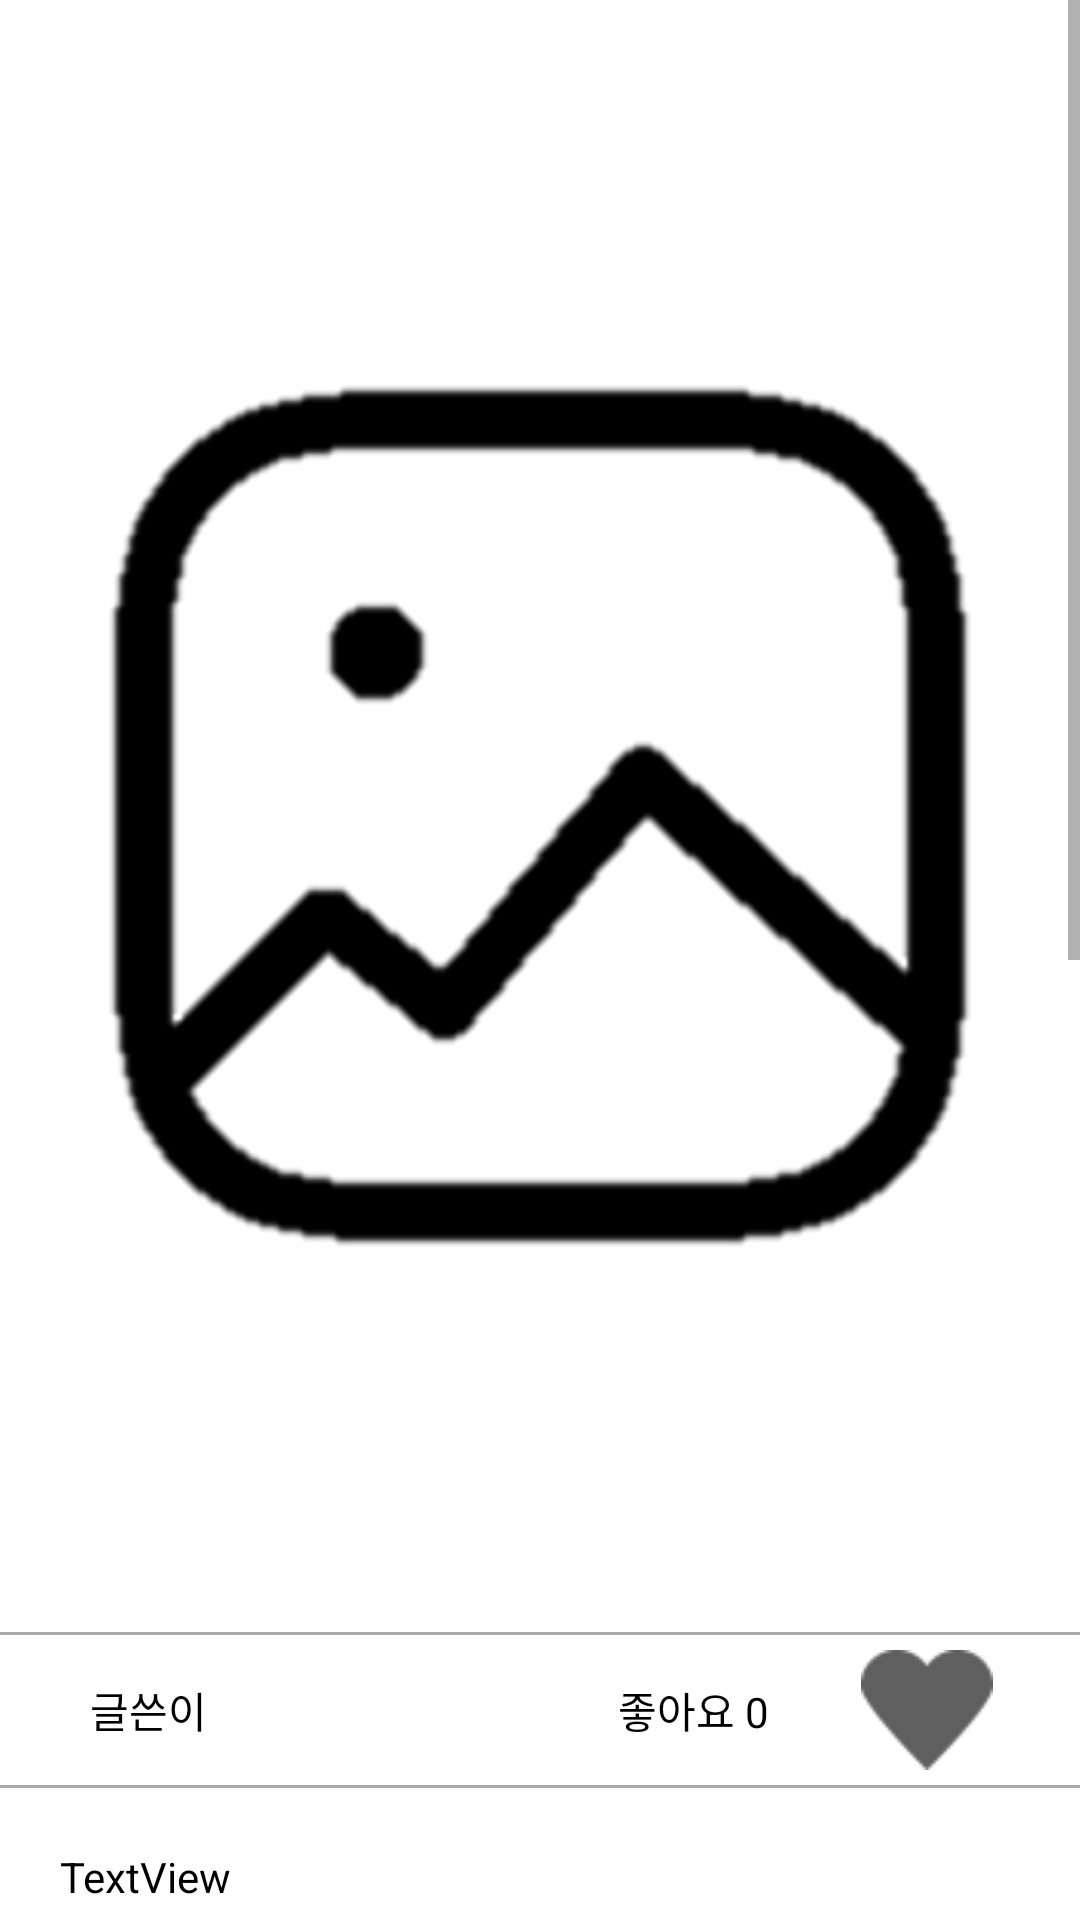

Where to tap for icons on this 1080 x 1920 app screen, as point (x, y):
unlike: point (927, 1710)
